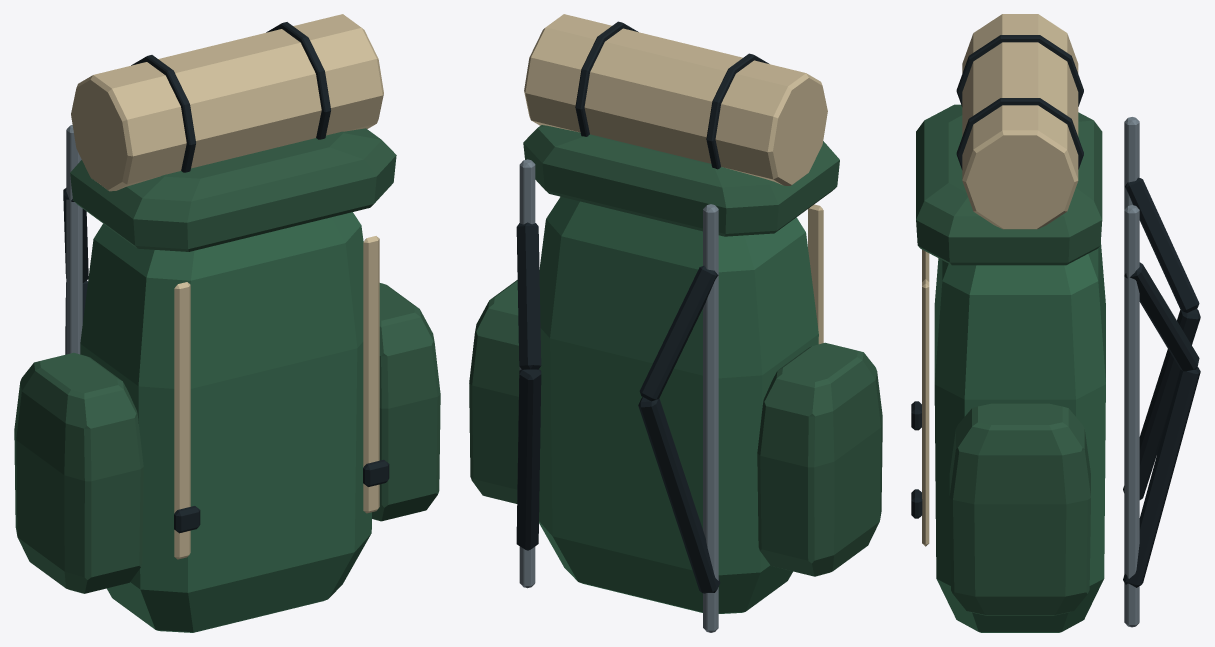
Rendered from b17_external_frame_hiking_pack.glb.
The picture shows the model from 3 angles, left to right: view 1: azimuth 30°, elevation 25°; view 2: azimuth 150°, elevation 25°; view 3: azimuth 270°, elevation 25°; orthographic projection. The views are drawn at different scales.
Parts seen in each view (by area): view 1: b17_external_frame_hiking_pack; view 2: b17_external_frame_hiking_pack; view 3: b17_external_frame_hiking_pack.
Boxes of the visible parts, x1,y1,x2,y2 form: b17_external_frame_hiking_pack: (14, 14, 440, 632); b17_external_frame_hiking_pack: (469, 14, 882, 632); b17_external_frame_hiking_pack: (911, 14, 1200, 632).
Size of the model in its own units: 0.555 by 0.7762 by 0.3888.
